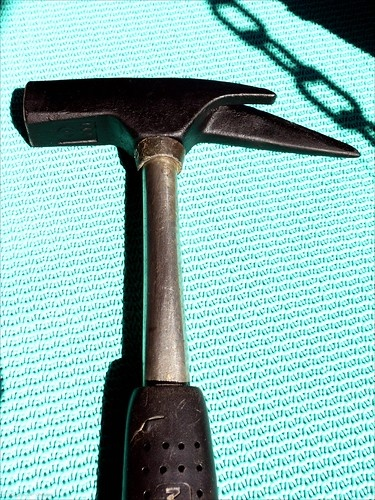hammer: (18, 66, 361, 500)
